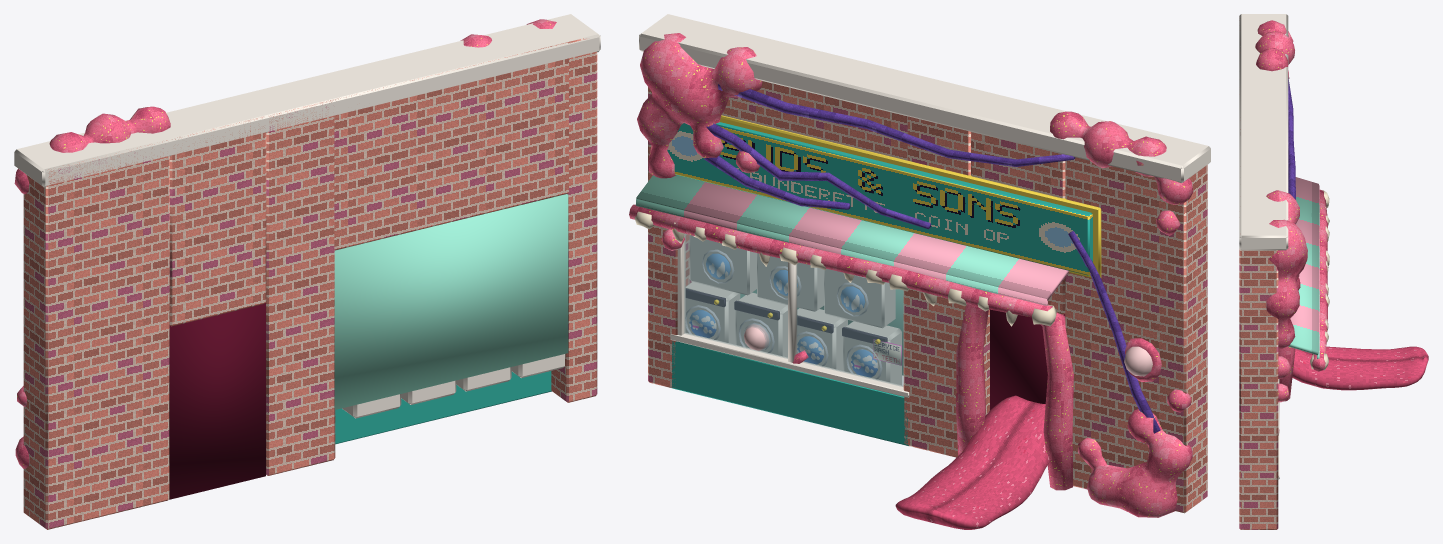
File: s_launderette.glb
3 renders of one model, left to right at view 1: azimuth 30°, elevation 25°; view 2: azimuth 150°, elevation 25°; view 3: azimuth 270°, elevation 25°, orthographic. The views are drawn at different scales.
Visible parts, largest first — view 1: launderette_ld_brick, launderette_ld_atlas, launderette_gut_flesh_pulse; view 2: launderette_ld_atlas, launderette_ld_brick, launderette_gut_flesh_pulse, launderette_ld_glass, launderette_tg_tongue_pulse, launderette_gut_vein_pulse; view 3: launderette_ld_atlas, launderette_ld_brick, launderette_gut_flesh_pulse, launderette_tg_tongue_pulse, launderette_gut_vein_pulse.
Part boxes in pixels (box(x1,y1,x2,y2)): launderette_ld_brick: box(23, 38, 597, 529); launderette_ld_atlas: box(14, 14, 600, 499); launderette_gut_flesh_pulse: box(14, 19, 556, 468); launderette_ld_atlas: box(634, 14, 1210, 445); launderette_ld_brick: box(648, 81, 1207, 513); launderette_gut_flesh_pulse: box(629, 33, 1193, 517); launderette_ld_glass: box(684, 233, 903, 386); launderette_tg_tongue_pulse: box(895, 395, 1049, 529); launderette_gut_vein_pulse: box(704, 84, 1160, 433); launderette_ld_atlas: box(1239, 14, 1329, 479); launderette_ld_brick: box(1239, 20, 1278, 529); launderette_gut_flesh_pulse: box(1255, 20, 1327, 402); launderette_tg_tongue_pulse: box(1292, 346, 1428, 390); launderette_gut_vein_pulse: box(1288, 78, 1295, 199).
Size of what is drawn, in the model's own units: 8.16 by 5.3 by 2.9.
6 materials, 5 textured.
